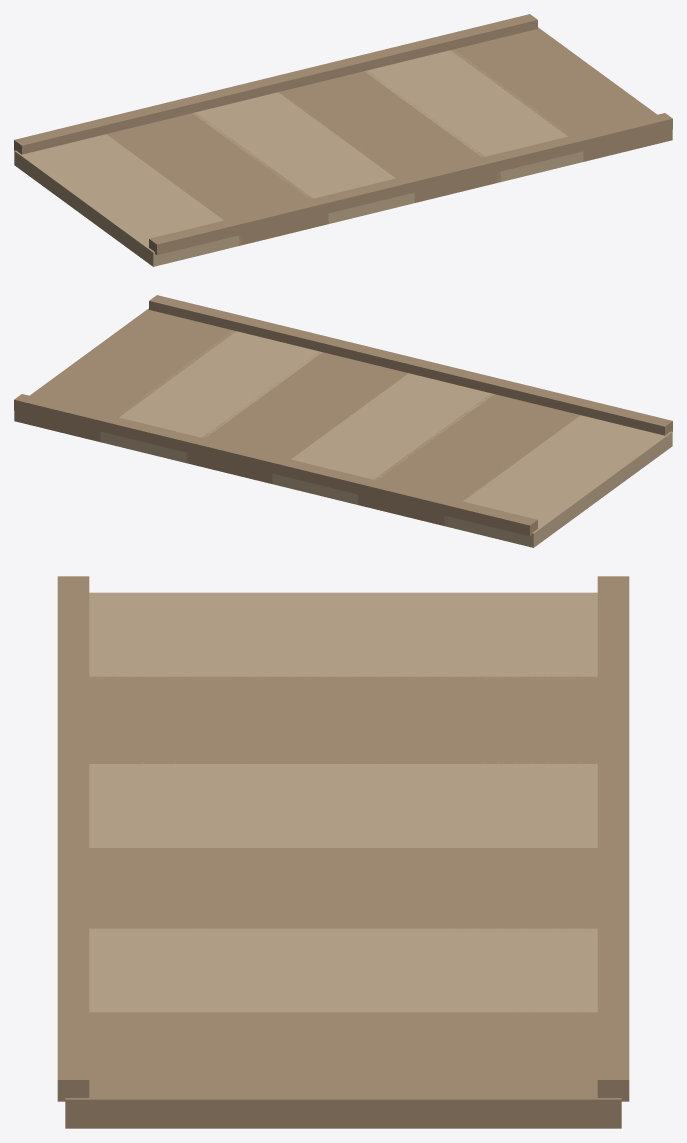
File: RoofWalkway.glb
3 views of the same model, one above another, from view 1: azimuth 30°, elevation 25°; view 2: azimuth 150°, elevation 25°; view 3: azimuth 270°, elevation 25° (orthographic). The views are drawn at different scales.
Parts seen in each view (by area): view 1: RoofWalkway; view 2: RoofWalkway; view 3: RoofWalkway.
Part boxes in pixels (x1=…): RoofWalkway: x1=14, y1=14, x2=672, y2=266; RoofWalkway: x1=14, y1=295, x2=672, y2=547; RoofWalkway: x1=57, y1=576, x2=629, y2=1128.
Size of the model in its own units: 3.02 by 0.13 by 1.44.
